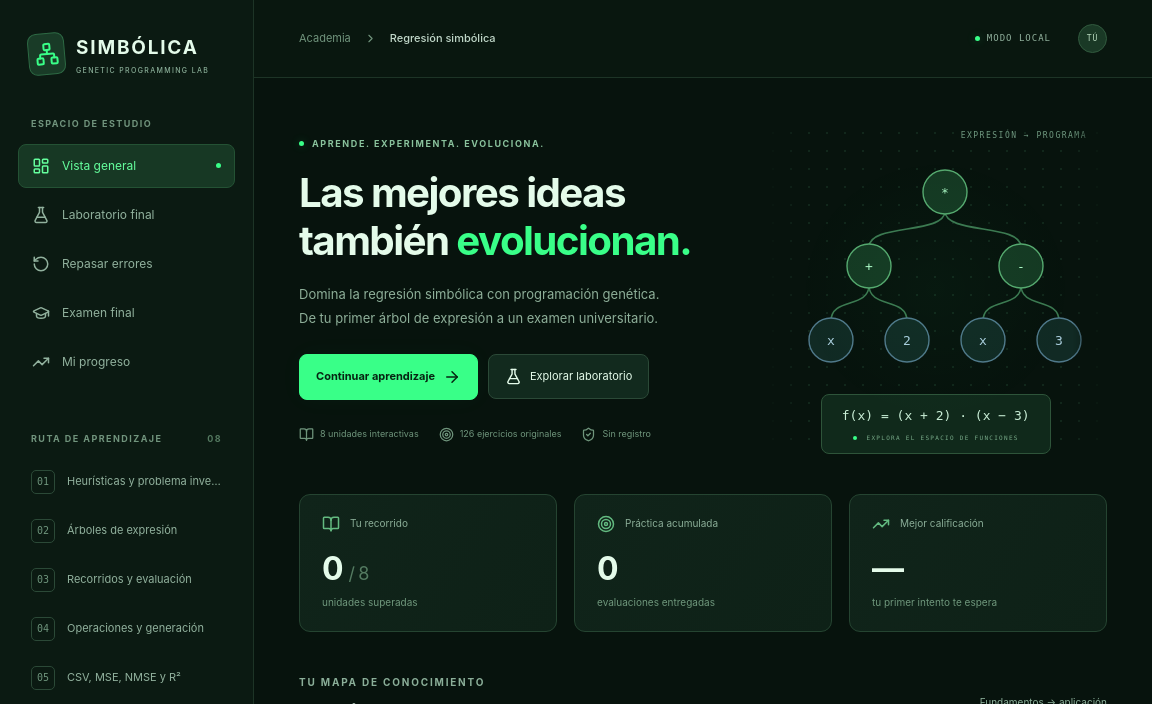
Test case: no muestra correcciones antes de entregar un examen y conserva respuestas
Later steps or results of the test are not shown.
Click the button "Examen final". click: {"x": 126, "y": 313}
box: [18, 291, 235, 335]
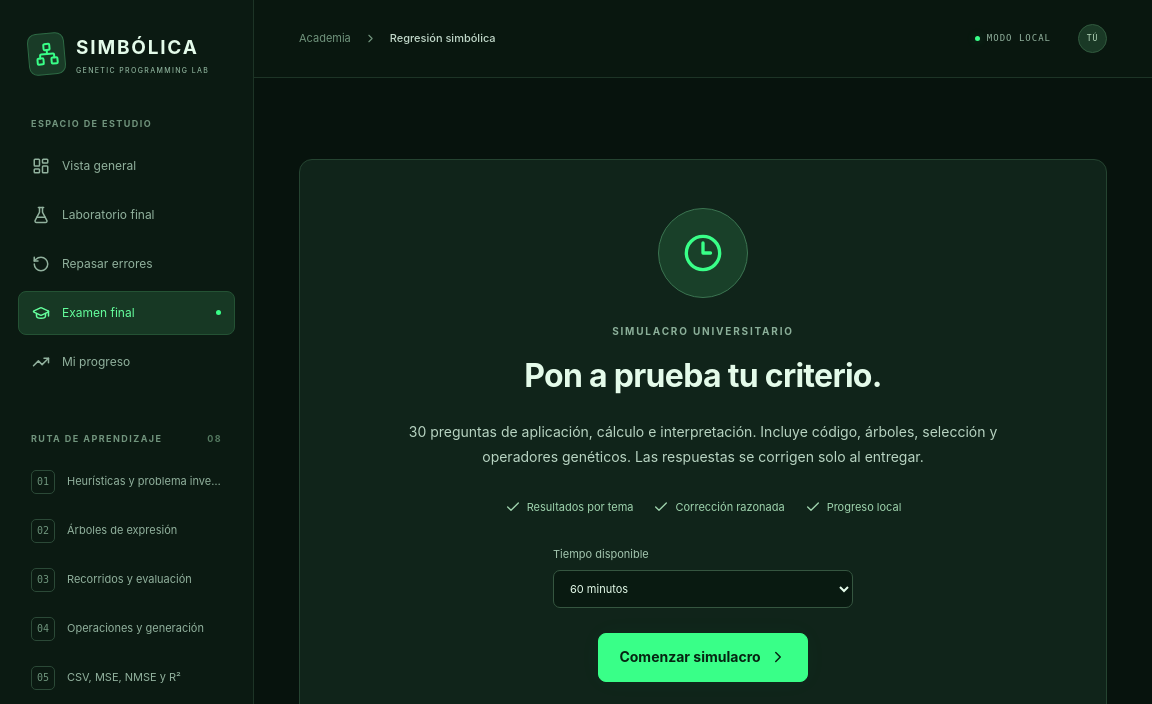
Click the button "Comenzar simulacro". click: {"x": 703, "y": 657}
box: [598, 633, 808, 682]
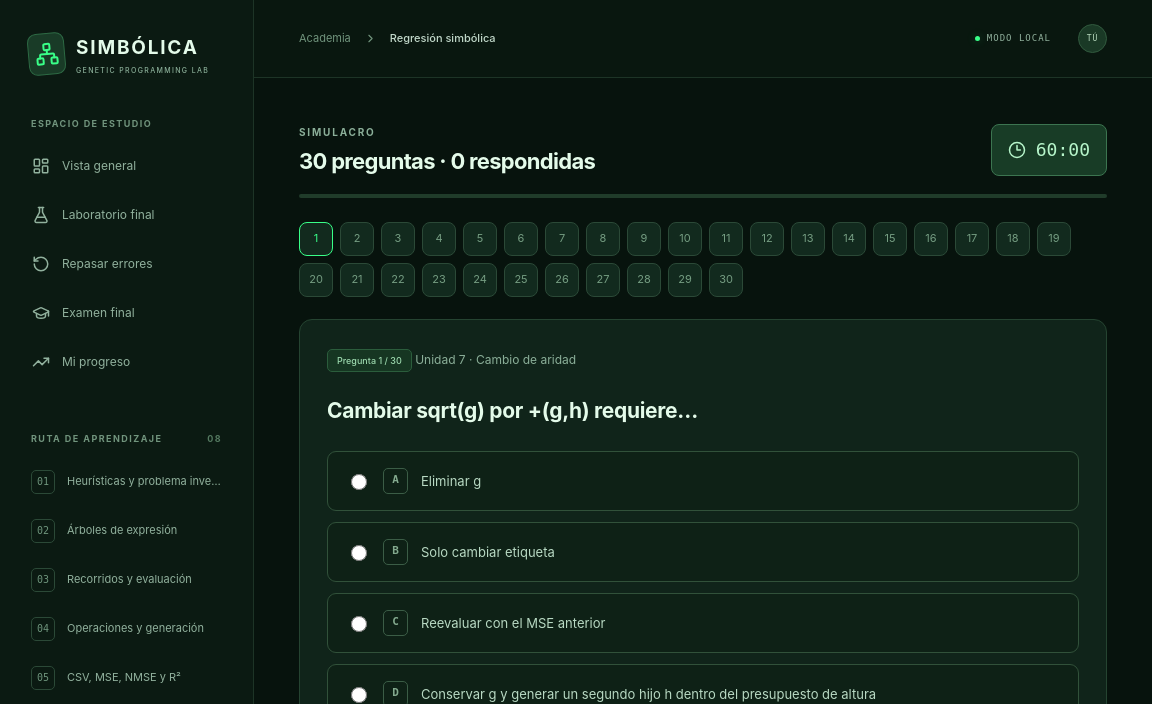
Result: the heading "30 preguntas · 0 respondidas" is shown at [299, 147, 595, 176]
